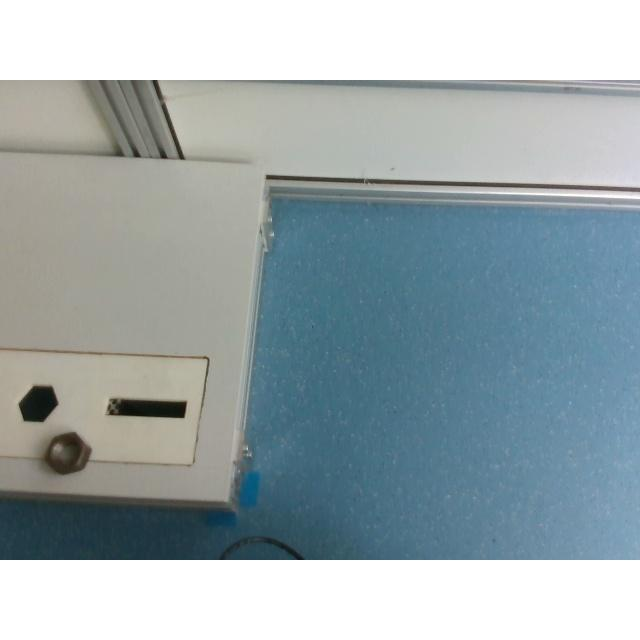M30: (45, 430, 91, 476)
